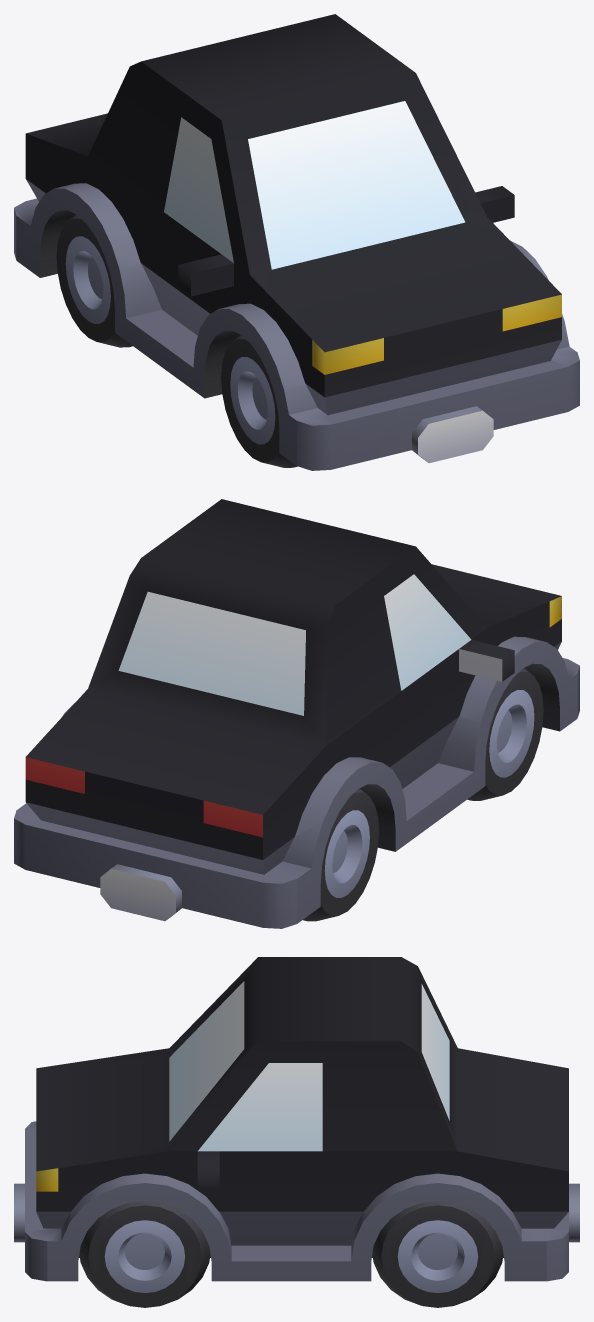
Rendered from sedan-black.obj.
The picture shows the model from 3 angles, top to bottom: view 1: azimuth 30°, elevation 25°; view 2: azimuth 150°, elevation 25°; view 3: azimuth 270°, elevation 25°; orthographic projection. The views are drawn at different scales.
Visible parts, largest first — view 1: body, wheel-front-right, wheel-back-right; view 2: body, wheel-back-right, wheel-front-right; view 3: body, wheel-back-left, wheel-front-left.
Part boxes in pixels (x1,y1,x2,y2): body: [14, 14, 579, 470]; wheel-front-right: [221, 335, 297, 467]; wheel-back-right: [56, 214, 132, 347]; body: [14, 499, 579, 928]; wheel-back-right: [303, 788, 378, 921]; wheel-front-right: [467, 668, 543, 800]; body: [14, 957, 579, 1281]; wheel-back-left: [372, 1201, 503, 1307]; wheel-front-left: [79, 1201, 210, 1307].
Size of the model in its own units: 1.5 by 1.3 by 2.55.
Materials: 1 (1 with a texture image).
